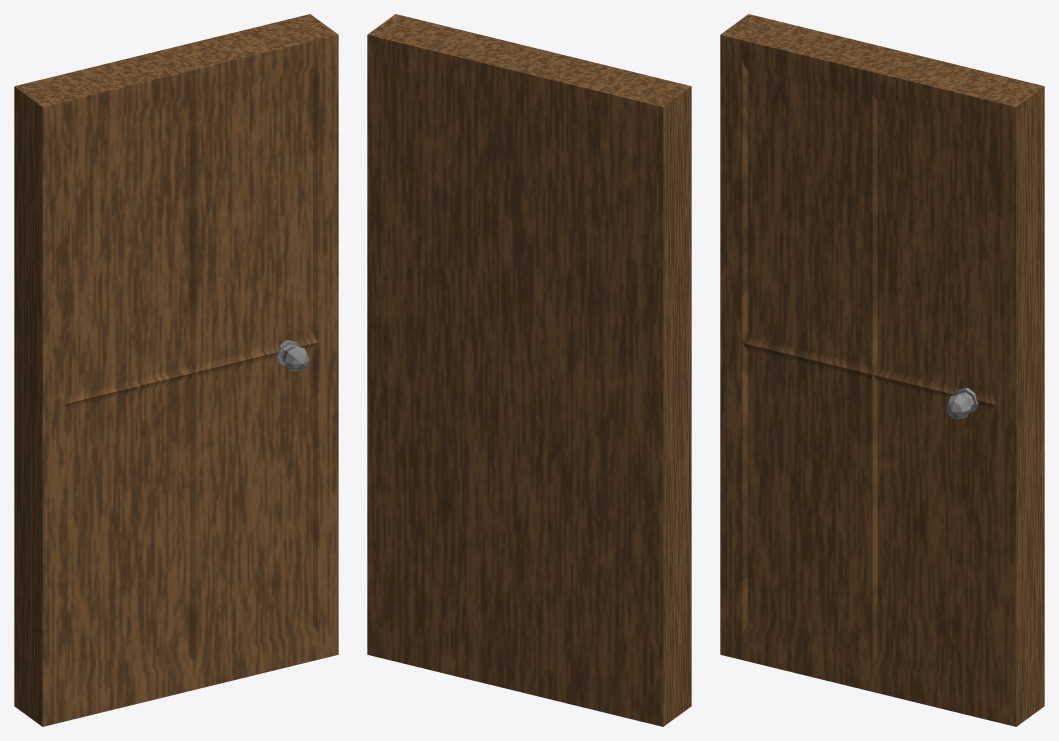
Rendered from Door.fbx.
3 views of the same model, side by side, from view 1: azimuth 30°, elevation 25°; view 2: azimuth 150°, elevation 25°; view 3: azimuth 330°, elevation 25° (orthographic).
Visible parts, largest first — view 1: pCube1, pSphere2; view 2: pCube1; view 3: pCube1, pSphere2.
Part boxes in pixels (left/top/right/bottom): pCube1: left=14, top=14, right=338, bottom=726; pSphere2: left=276, top=340, right=309, bottom=370; pCube1: left=367, top=14, right=691, bottom=726; pCube1: left=720, top=14, right=1044, bottom=726; pSphere2: left=946, top=387, right=978, bottom=418.
Bounding box in the file's own units: 1.5 × 3 × 0.3738.
2 materials, 2 textured.
